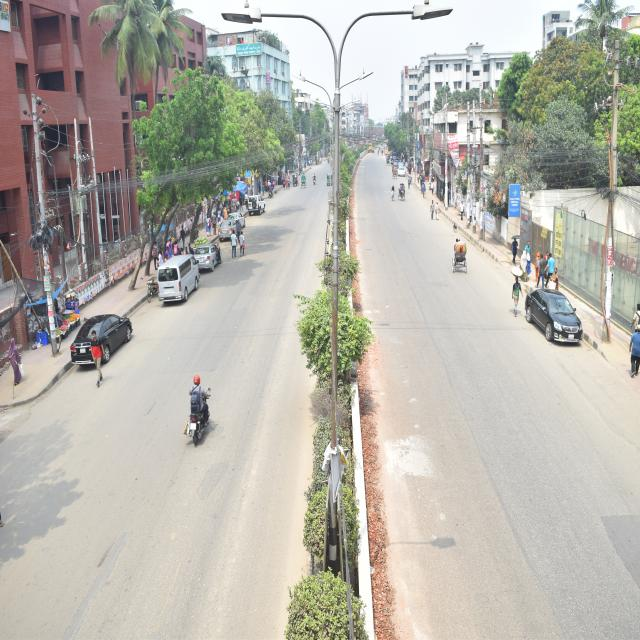car: (519, 277, 603, 379), (66, 301, 152, 376), (191, 234, 228, 282), (239, 185, 271, 225), (213, 207, 241, 250), (396, 159, 407, 180)
microbus: (149, 250, 202, 303)
motorbike: (169, 362, 230, 456), (310, 174, 320, 189)
